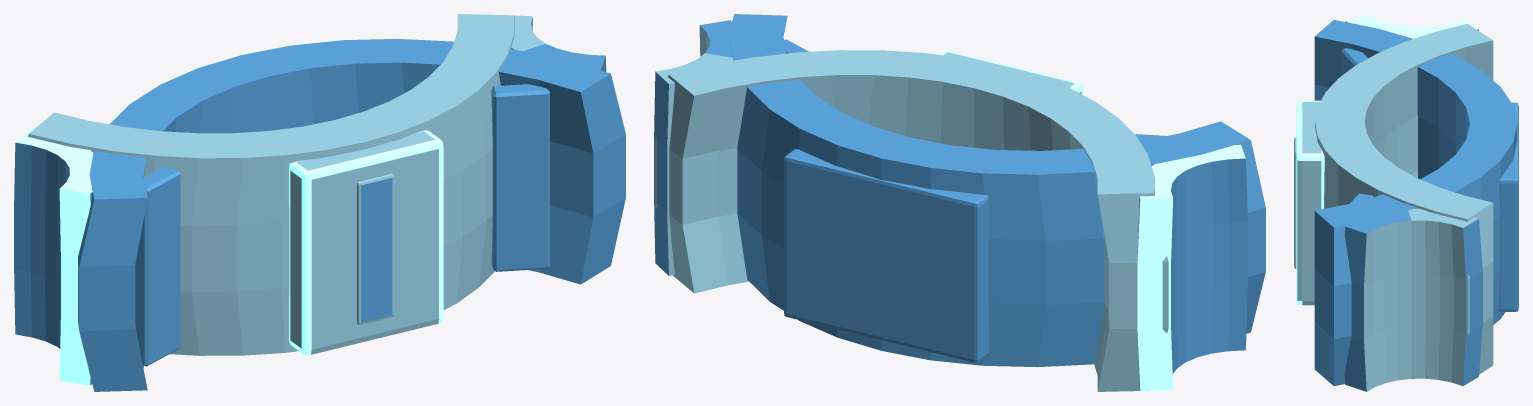
Rendered from waist.glb.
3 renders of one model, left to right at view 1: azimuth 30°, elevation 25°; view 2: azimuth 150°, elevation 25°; view 3: azimuth 270°, elevation 25°, orthographic. The views are drawn at different scales.
Visible parts, largest first — view 1: armor_waist_v001; view 2: armor_waist_v001; view 3: armor_waist_v001.
Boxes of the visible parts, left/top/right/bottom form: armor_waist_v001: left=14, top=14, right=625, bottom=391; armor_waist_v001: left=654, top=14, right=1265, bottom=391; armor_waist_v001: left=1294, top=14, right=1518, bottom=391.
Bounding box in the file's own units: 0.4404 × 0.1568 × 0.19.
